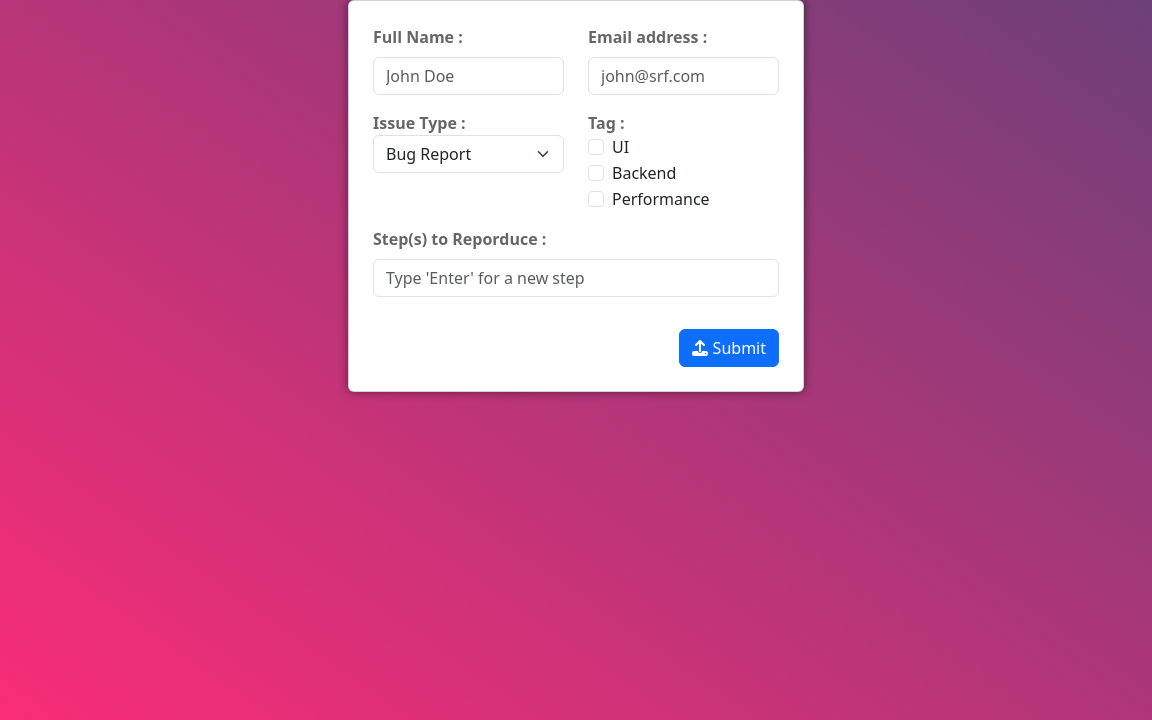
Testing Validation › Should change validation of full name length after key in
Type "Zaw" into the field with placeholder "John Doe" at point(468, 76), box 373,57 -> 564,95
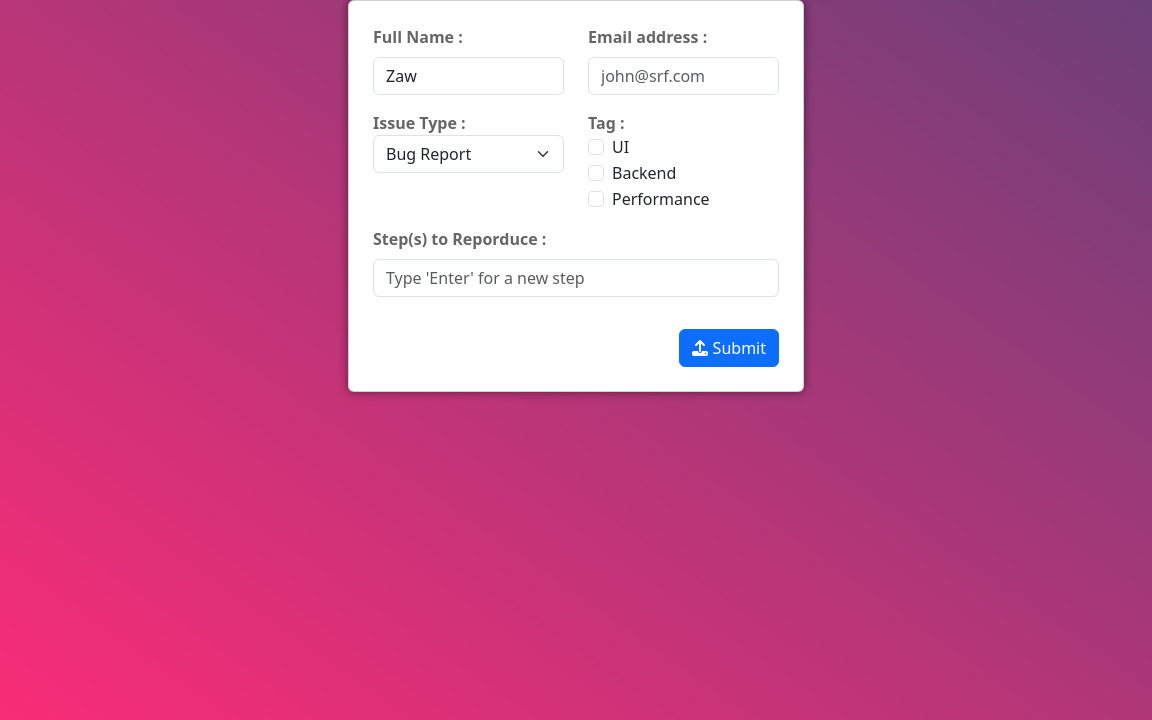
Click the button "Submit" at point(729, 348), box 680,329 -> 779,367
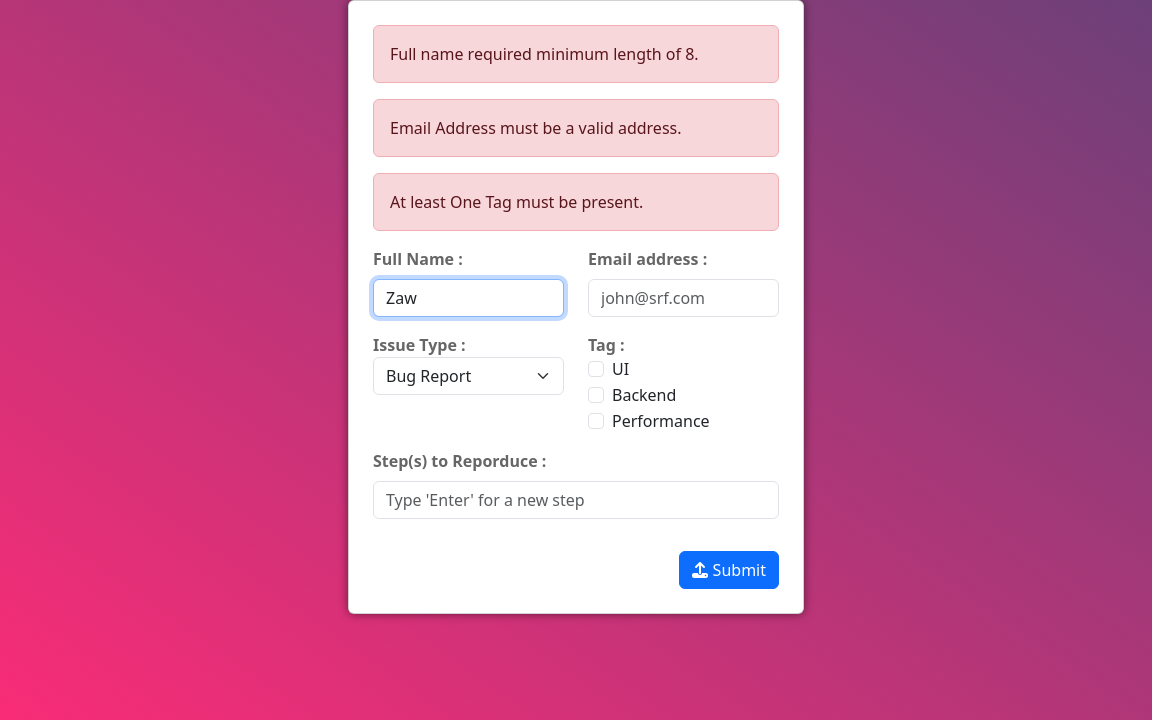
Result: the text "Full name required minimum length of 8." is shown at 373,25 -> 779,83
